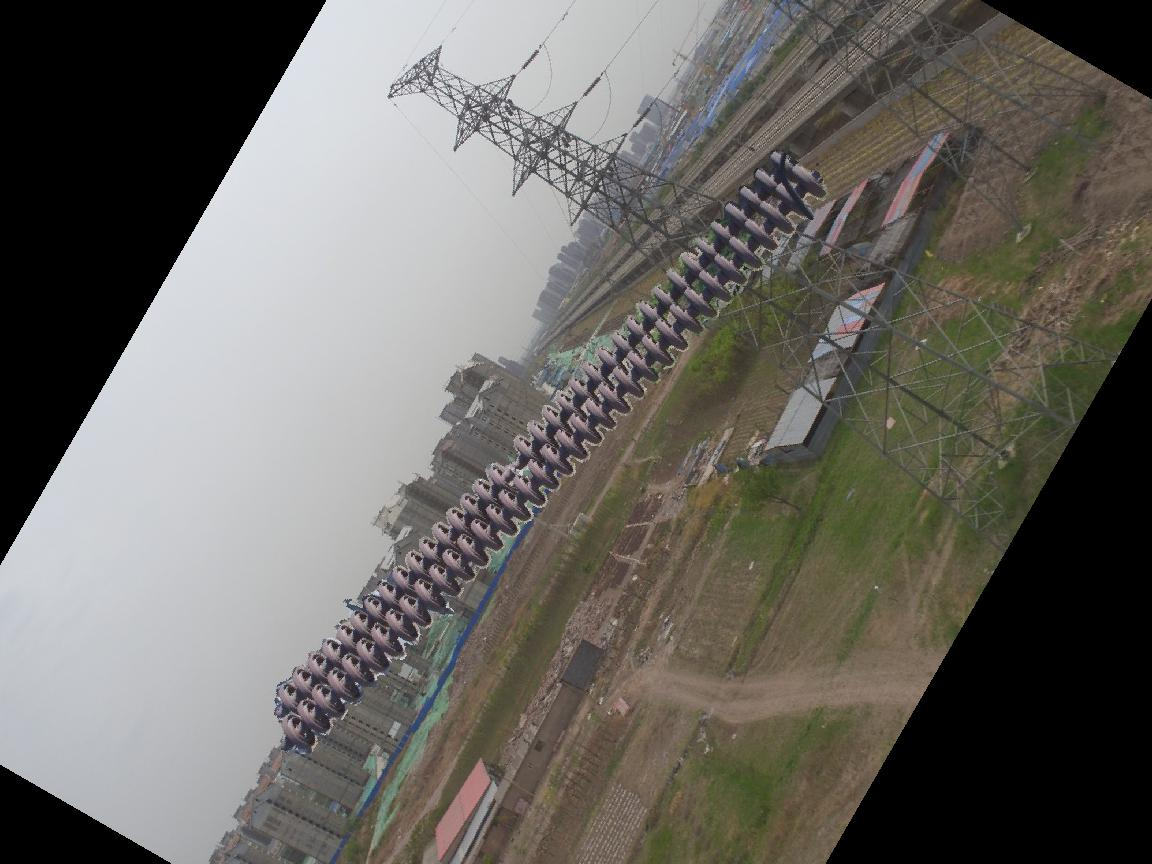insulator: (262, 138, 827, 758)
insulator_stringdrop: (483, 433, 542, 494)
